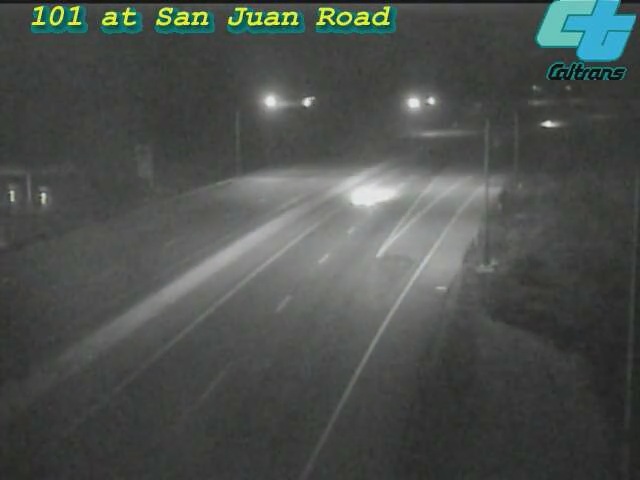vehicle: (327, 154, 407, 234), (522, 99, 572, 149)
